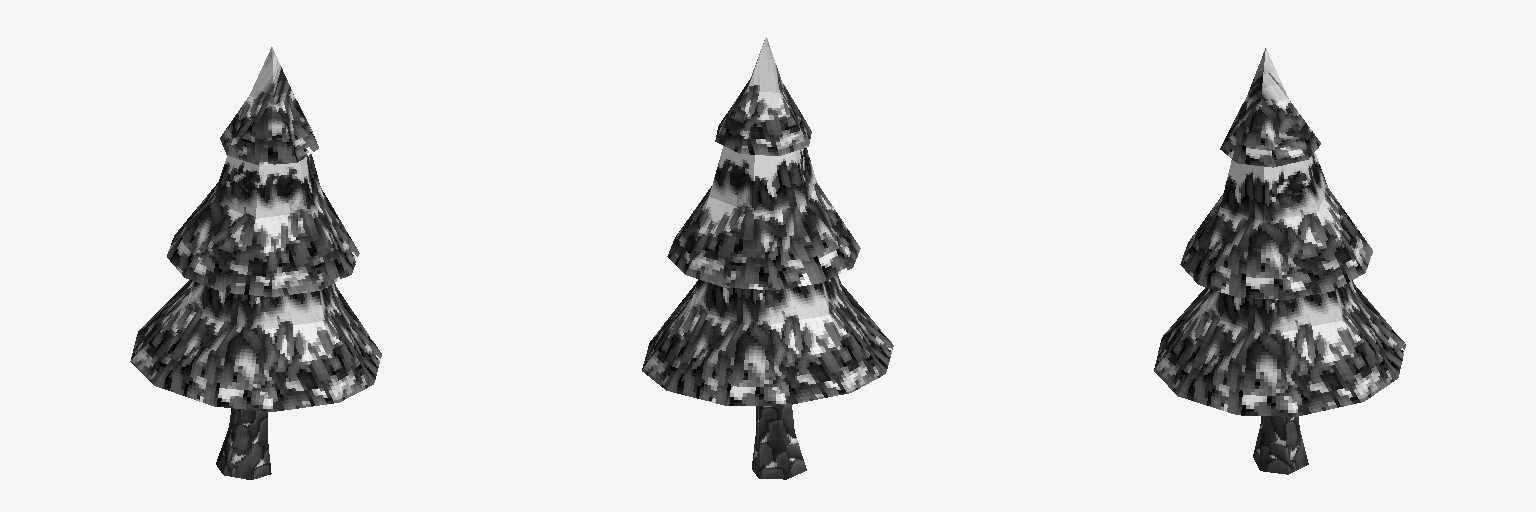
The picture shows the model from 3 angles: view 1: azimuth 30°, elevation 25°; view 2: azimuth 150°, elevation 25°; view 3: azimuth 270°, elevation 25°; orthographic projection.
Parts seen in each view (by area): view 1: Tree_Mesh.005, Tree.001_Mesh.001; view 2: Tree_Mesh.005, Tree.001_Mesh.001; view 3: Tree_Mesh.005, Tree.001_Mesh.001.
Part boxes in pixels (x1,y1,x2,y2): Tree_Mesh.005: (130,47,381,411); Tree.001_Mesh.001: (216,408,271,479); Tree_Mesh.005: (642,37,893,405); Tree.001_Mesh.001: (752,405,806,479); Tree_Mesh.005: (1154,48,1405,416); Tree.001_Mesh.001: (1253,416,1308,474).
Bounding box in the file's own units: 0.7197 × 1.33 × 0.715.
Materials: 2 (2 with a texture image).